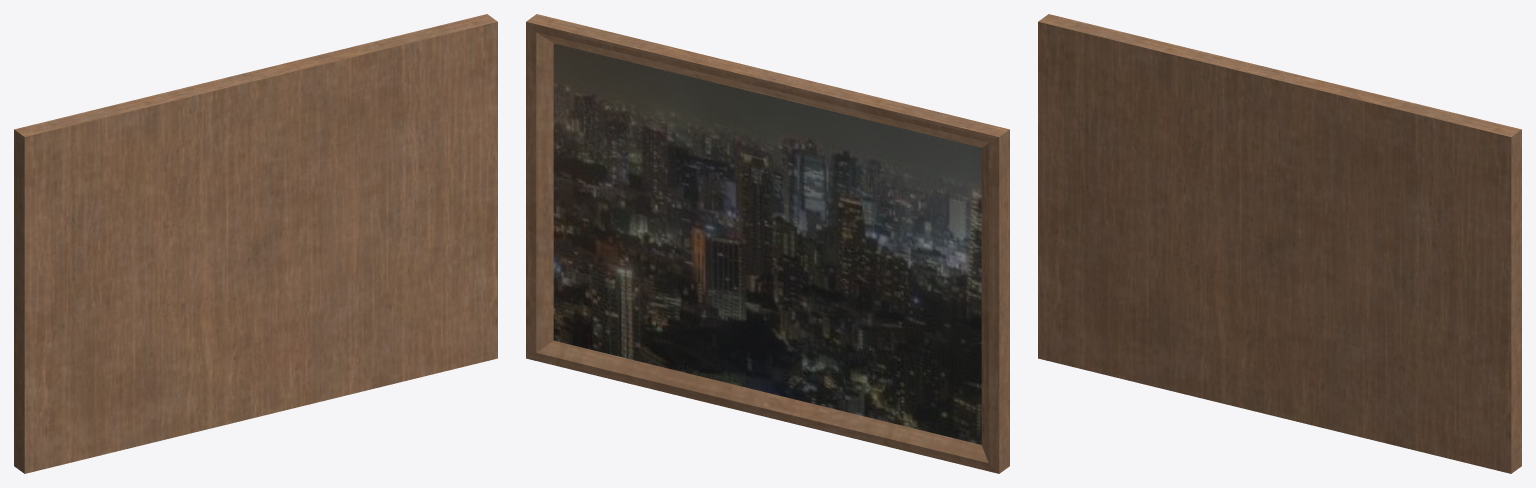
The model's file is painting_5.glb.
The picture shows the model from 3 angles, left to right: view 1: azimuth 30°, elevation 25°; view 2: azimuth 150°, elevation 25°; view 3: azimuth 330°, elevation 25°; orthographic projection.
Visible parts, largest first — view 1: Paintings_06; view 2: Paintings_06; view 3: Paintings_06.
Part boxes in pixels (x1,y1,x2,y2): Paintings_06: (14, 14, 497, 473); Paintings_06: (526, 14, 1009, 473); Paintings_06: (1038, 14, 1521, 473).
Size of the model in its own units: 1.3 by 0.884 by 0.0505.
2 materials, 2 textured.
